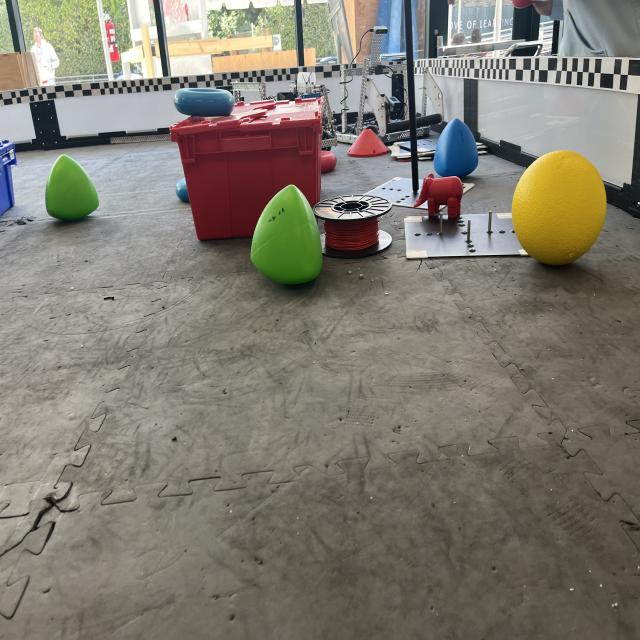Blue-Ring: (174, 88, 235, 117)
Red-Ring: (321, 150, 336, 173)
